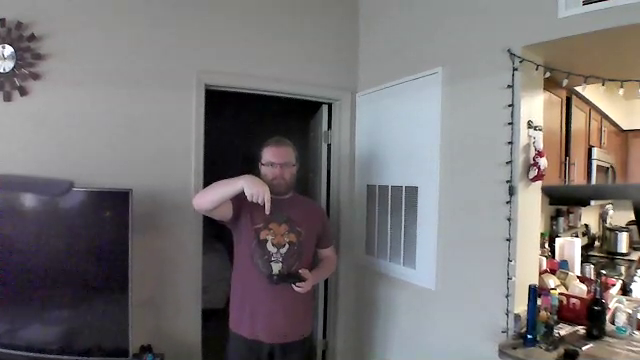down: (236, 169, 273, 220)
